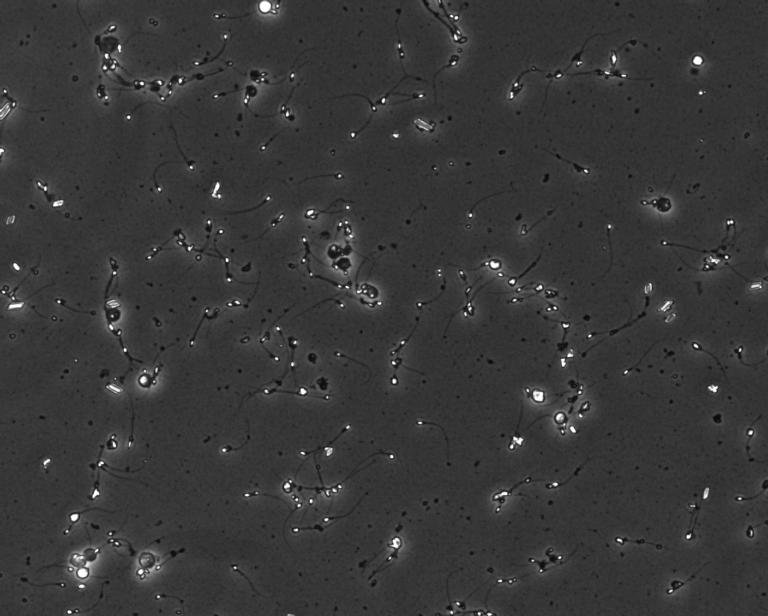cell: (93, 29, 124, 58), (134, 547, 160, 573), (323, 239, 347, 264), (133, 368, 157, 393), (652, 193, 676, 217), (101, 303, 125, 326), (360, 280, 383, 303), (526, 384, 549, 407), (79, 543, 102, 566), (549, 407, 572, 429), (72, 561, 94, 584), (483, 254, 506, 275), (687, 50, 709, 71), (241, 80, 262, 101), (253, 0, 276, 19)
